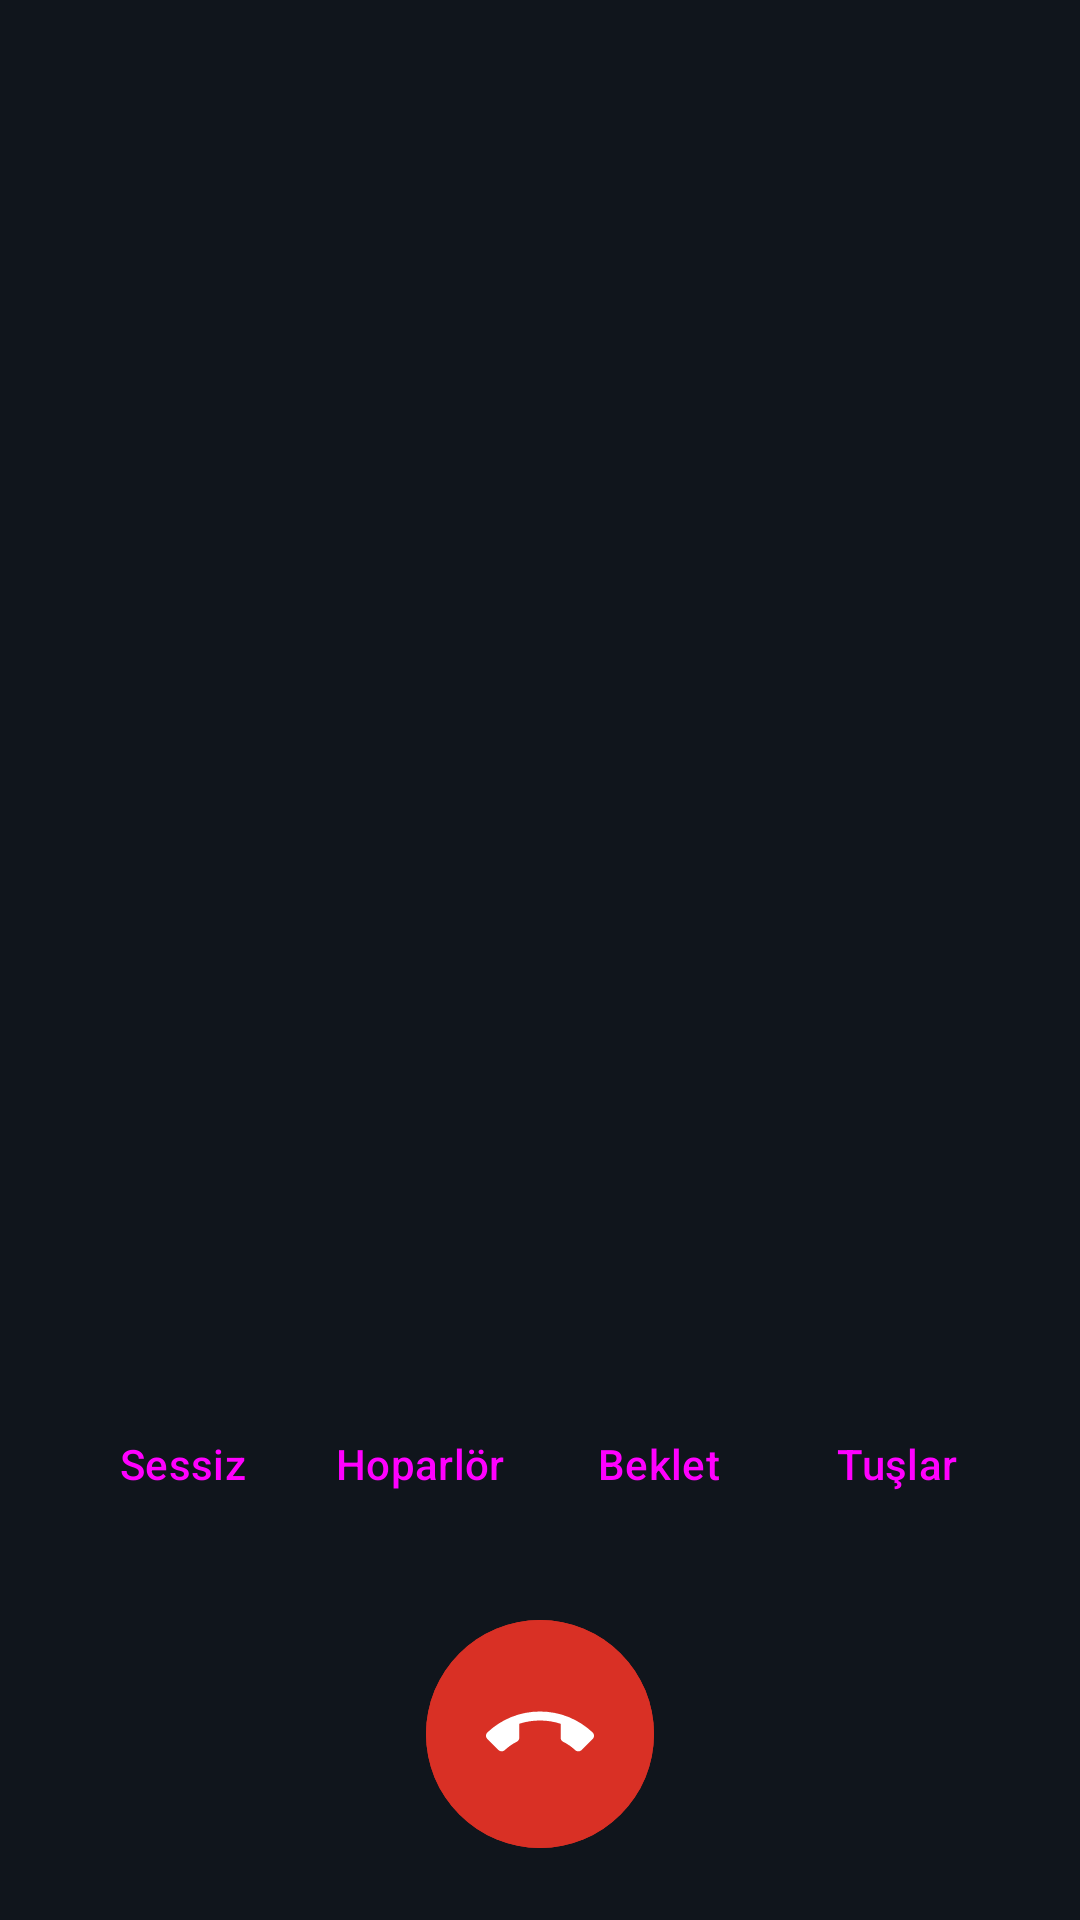

Named icons in this screenshot (1080 × 1920) and their centers, (x,y):
Kapat: (540,1734)
